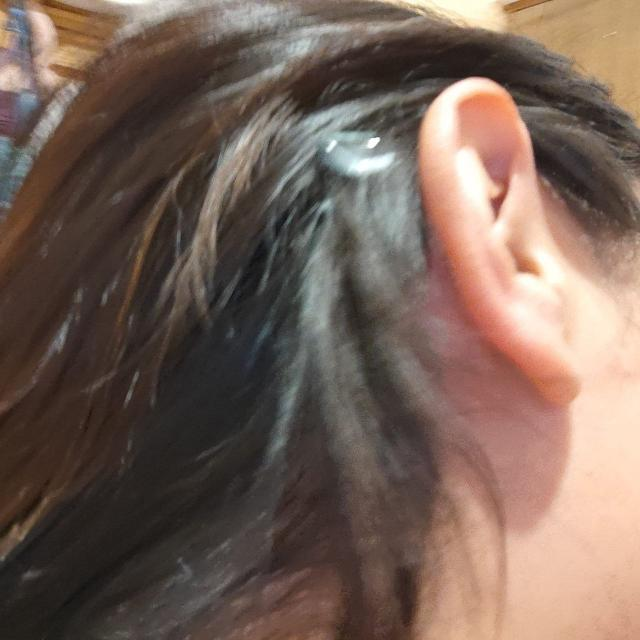ear: (419, 78, 606, 406)
